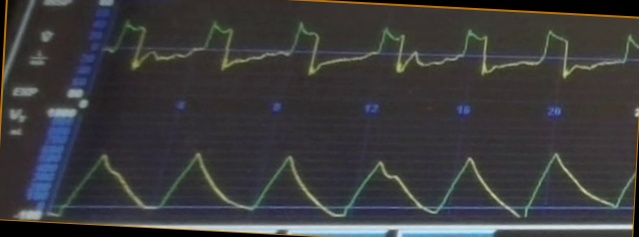Premature_cycling Flow: (110, 19, 639, 96)
Premature_cycling Volume: (64, 149, 633, 220)
